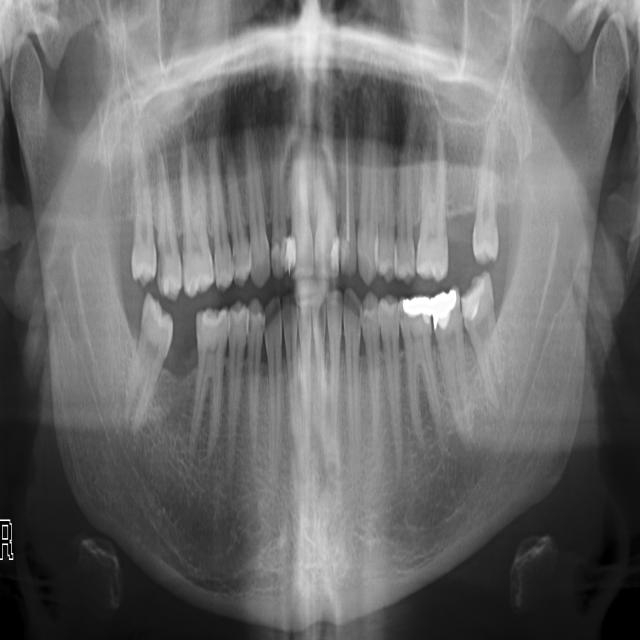tooth: (127, 292, 173, 428), (432, 291, 471, 431), (180, 139, 215, 294), (461, 272, 503, 401), (400, 297, 440, 431), (195, 310, 227, 452), (153, 147, 183, 296), (206, 137, 232, 288), (225, 140, 251, 283), (245, 137, 270, 281), (416, 167, 446, 279), (131, 151, 155, 282), (313, 157, 339, 277), (269, 146, 291, 278), (289, 161, 314, 275), (361, 296, 382, 431), (379, 298, 400, 428), (227, 304, 247, 437), (395, 167, 418, 279), (473, 168, 499, 262), (337, 160, 357, 276), (357, 168, 377, 280), (266, 299, 283, 426), (344, 292, 359, 427), (378, 165, 395, 281), (327, 291, 342, 410), (249, 301, 263, 427), (284, 297, 297, 423), (312, 302, 326, 412), (300, 302, 312, 422)
